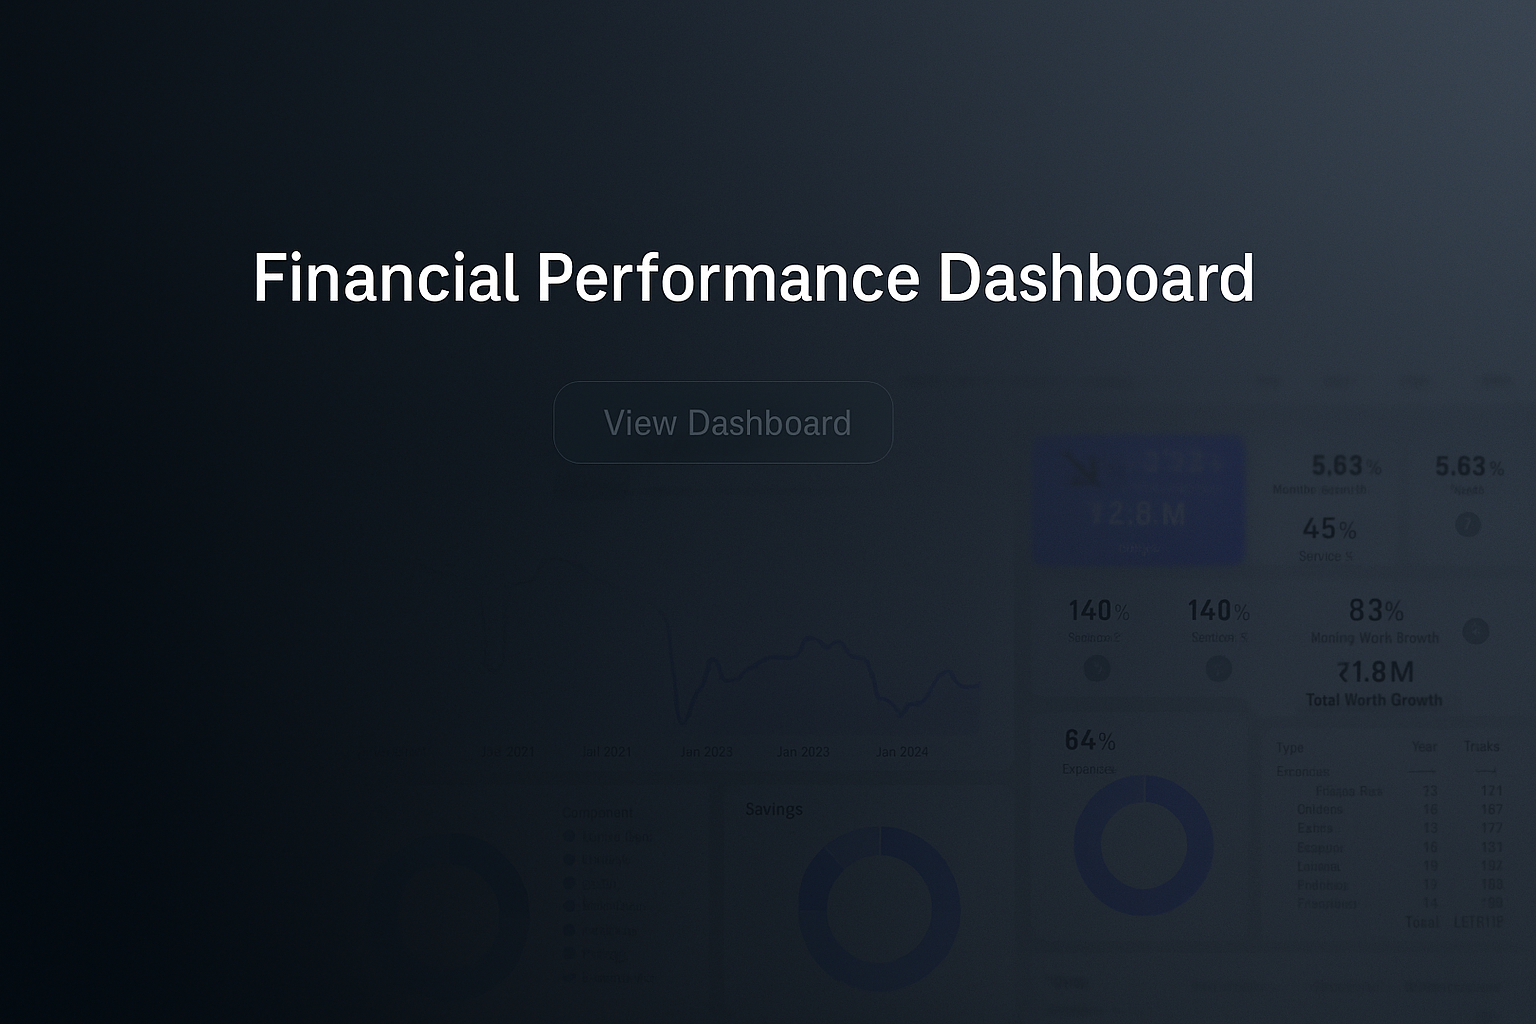

The dashboard page shown, as its layout file describes it:
{"tool":"powerbi","page":{"name":"Home page","canvas":[1280,720],"ordinal":0},"visuals":[{"type":"textbox","box":[10,0,751.7,86.7],"z":0},{"type":"actionButton","box":[230,115,223.3,56.7],"z":1000}]}

Visuals, with their boxes on the page's 1280x720 design canvas (x1, y1, x2, y2). These are canvas units, not pixel positions in the 1536x1024 screenshot, which may show the page scaled, cropped or inside an application window:
textbox: pyautogui.locateOnScreen(10, 0, 762, 87)
actionButton: pyautogui.locateOnScreen(230, 115, 453, 172)
